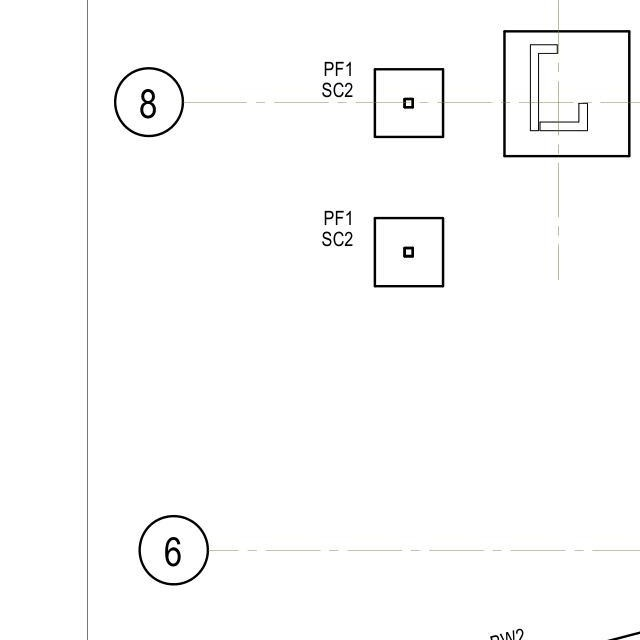BW2: (450, 604, 538, 640)
PF1: (319, 191, 358, 222), (325, 55, 356, 76)
SC2: (314, 227, 369, 255), (315, 73, 363, 101)
